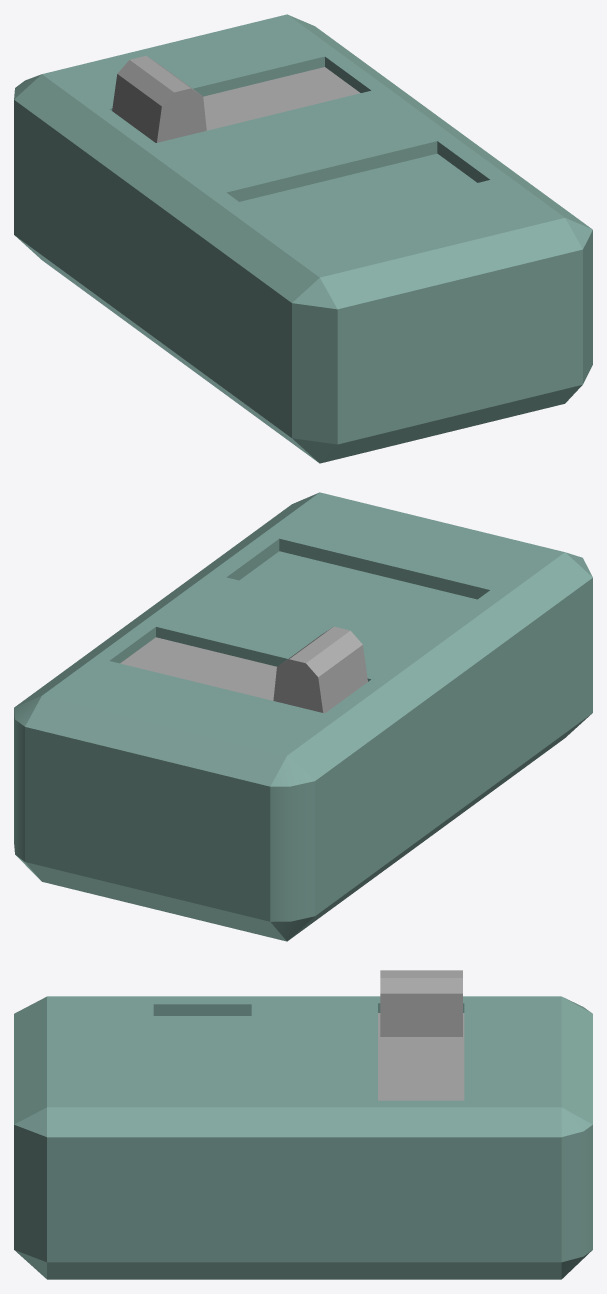
File: equalizator.fbx
3 renders of one model, top to bottom at view 1: azimuth 30°, elevation 25°; view 2: azimuth 150°, elevation 25°; view 3: azimuth 270°, elevation 25°, orthographic. The views are drawn at different scales.
Parts seen in each view (by area): view 1: eq_main, eq_gauge, eq_switch; view 2: eq_main, eq_gauge, eq_switch; view 3: eq_main, eq_gauge, eq_switch.
Boxes of the visible parts, box(x1,y1,x2,y2) form: eq_main: box(14, 14, 592, 463); eq_gauge: box(240, 153, 476, 231); eq_switch: box(112, 56, 206, 142); eq_main: box(14, 492, 592, 941); eq_gauge: box(239, 551, 477, 628); eq_switch: box(273, 626, 367, 713); eq_main: box(14, 996, 592, 1279); eq_gauge: box(153, 1016, 251, 1099); eq_switch: box(380, 970, 462, 1036).
Bounding box in the file's own units: 0.688 × 0.5043 × 1.24.
